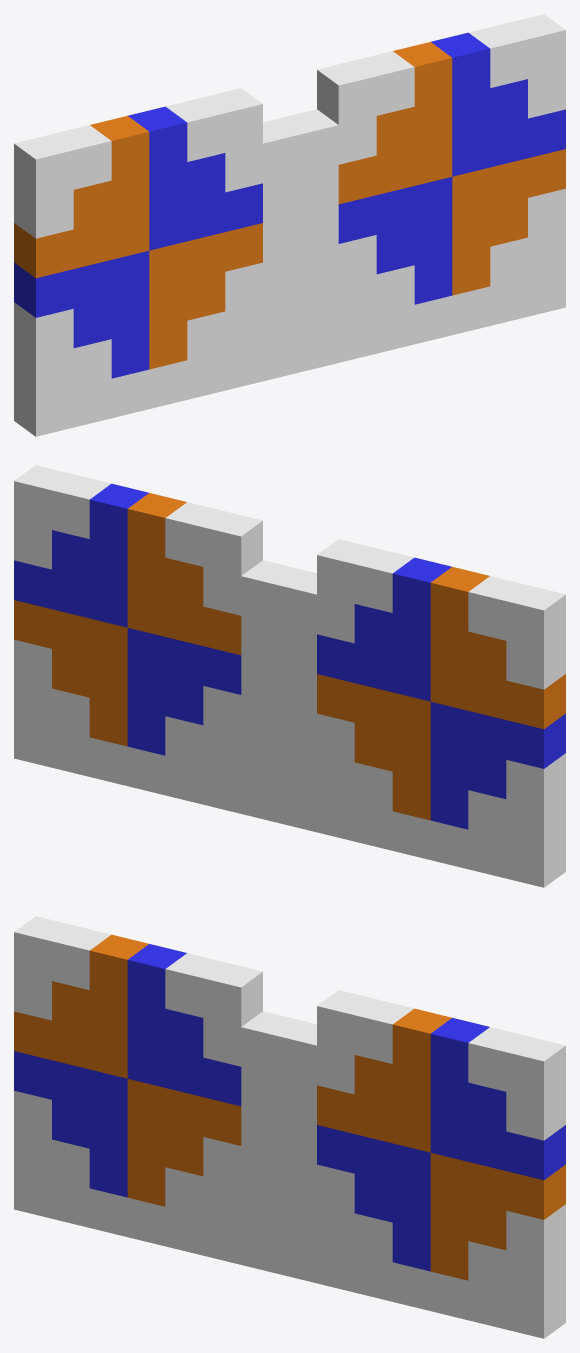
3 views of the same model, one above another, from view 1: azimuth 30°, elevation 25°; view 2: azimuth 150°, elevation 25°; view 3: azimuth 330°, elevation 25° (orthographic).
Parts seen in each view (by area): view 1: eye-shapes073, eye-shapes042, eye-shapes041; view 2: eye-shapes073, eye-shapes042, eye-shapes041; view 3: eye-shapes073, eye-shapes041, eye-shapes042.
Part boxes in pixels (x1=…): eye-shapes073: x1=14, y1=14, x2=565, y2=436; eye-shapes042: x1=14, y1=32, x2=565, y2=378; eye-shapes041: x1=14, y1=42, x2=565, y2=369; eye-shapes073: x1=14, y1=465, x2=565, y2=887; eye-shapes042: x1=14, y1=483, x2=565, y2=829; eye-shapes041: x1=14, y1=493, x2=565, y2=820; eye-shapes073: x1=14, y1=916, x2=565, y2=1338; eye-shapes041: x1=14, y1=934, x2=565, y2=1280; eye-shapes042: x1=14, y1=944, x2=565, y2=1271.
Size of the model in its own units: 140 by 70 by 10.
Materials: 3 (3 with a texture image).
